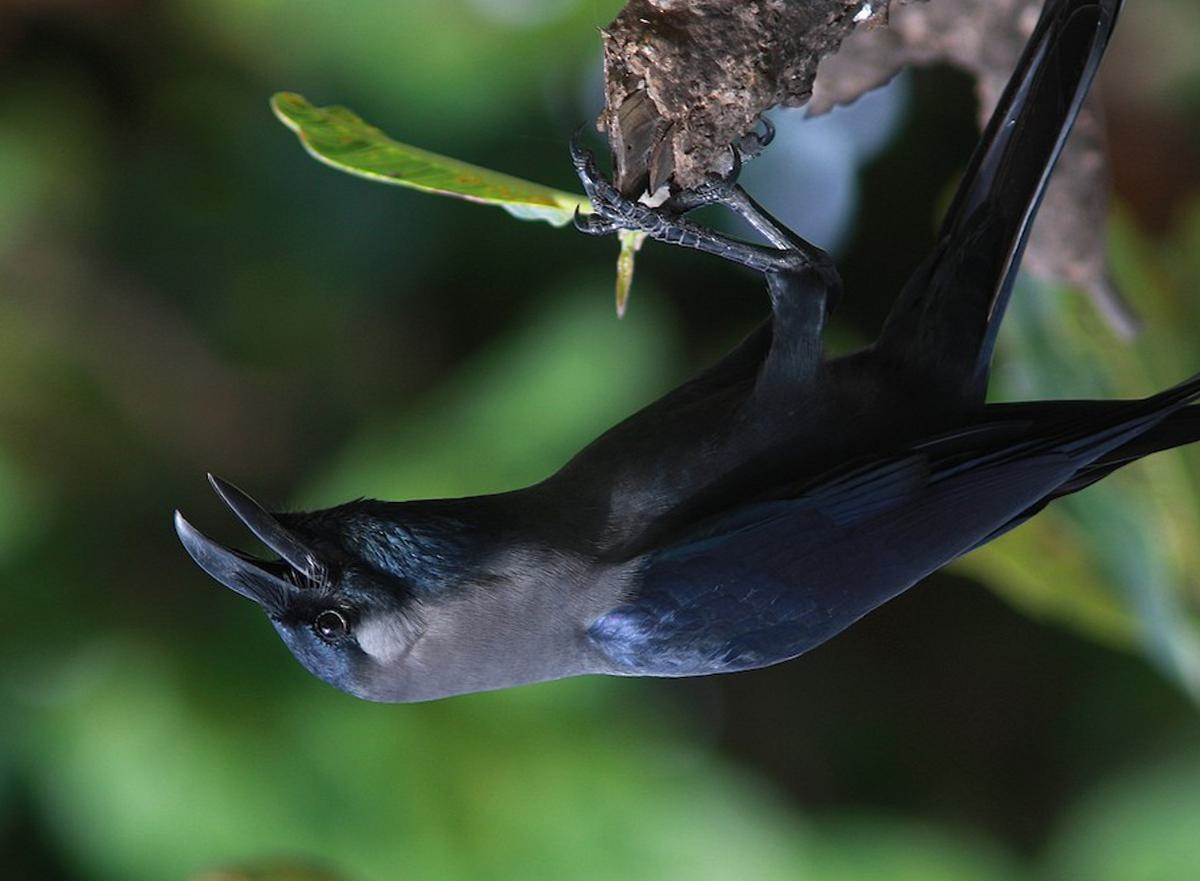crow: (154, 1, 1200, 729)
